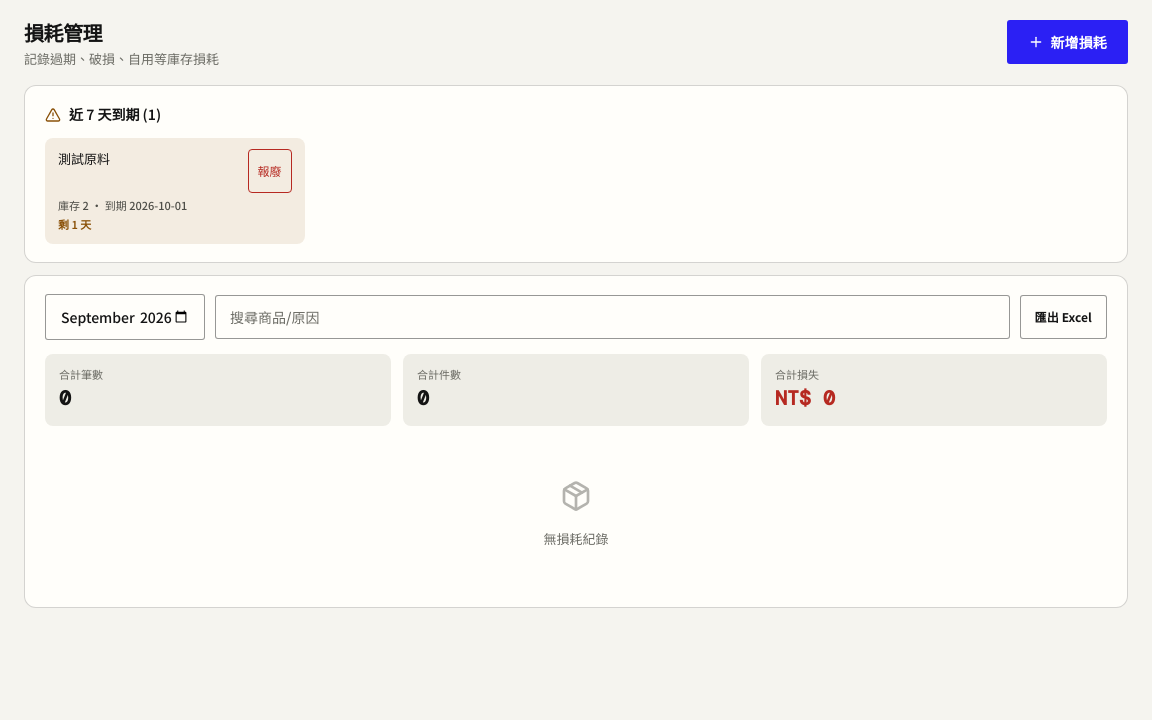
Test: a real waste form preserves fractional ingredient units instead of truncating them
Step 1. Click the button "新增損耗" → (1068, 42), box [1007,20,1128,64]
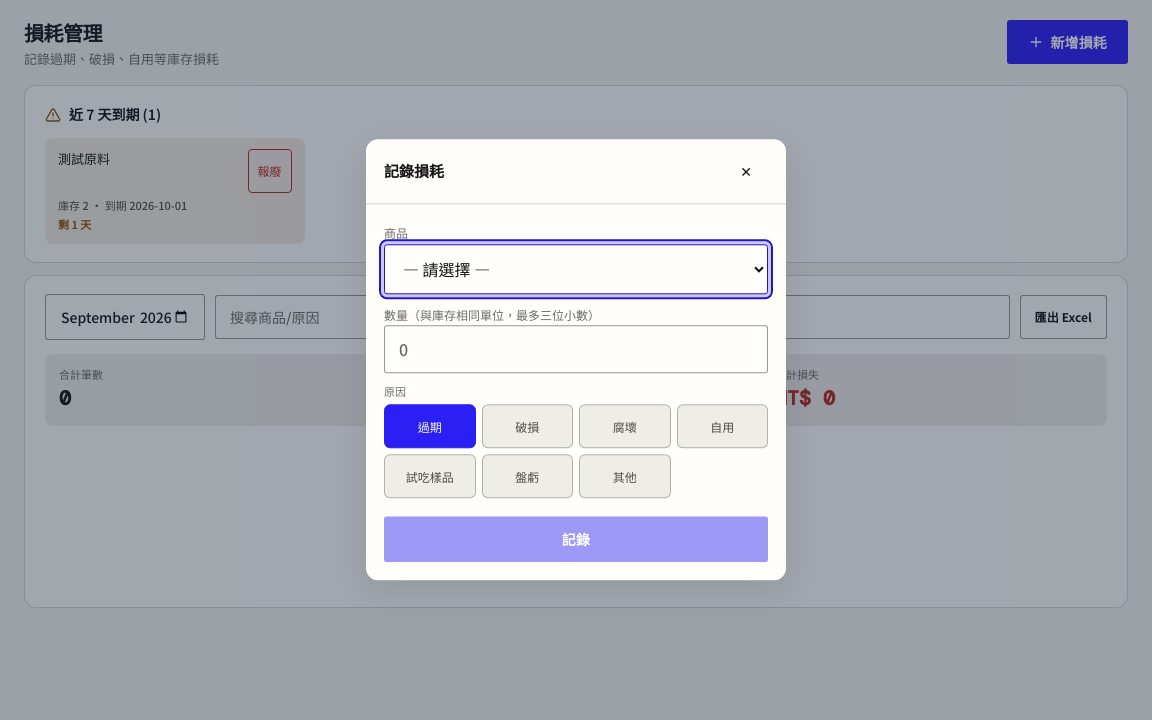
Step 2. Select "測試原料 (庫存 2)" in the dropdown → (576, 269), box [384,244,768,294]
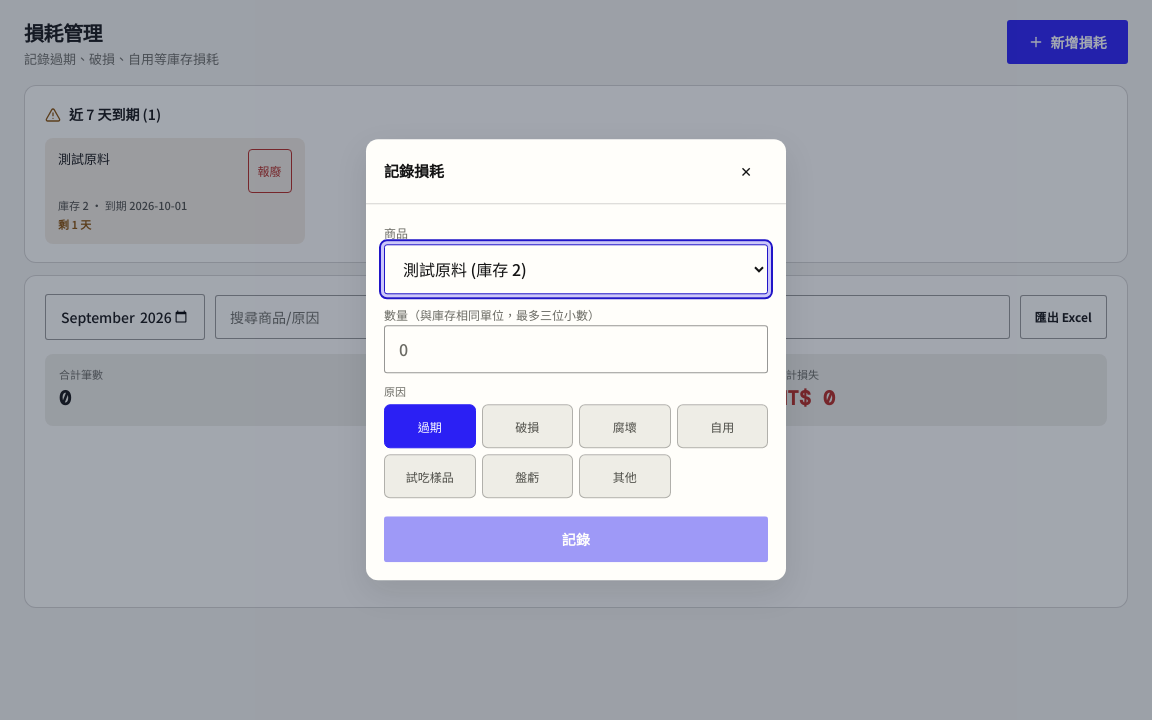
Step 3. Type "0.125" into the number field → (576, 350), box [384,326,768,374]
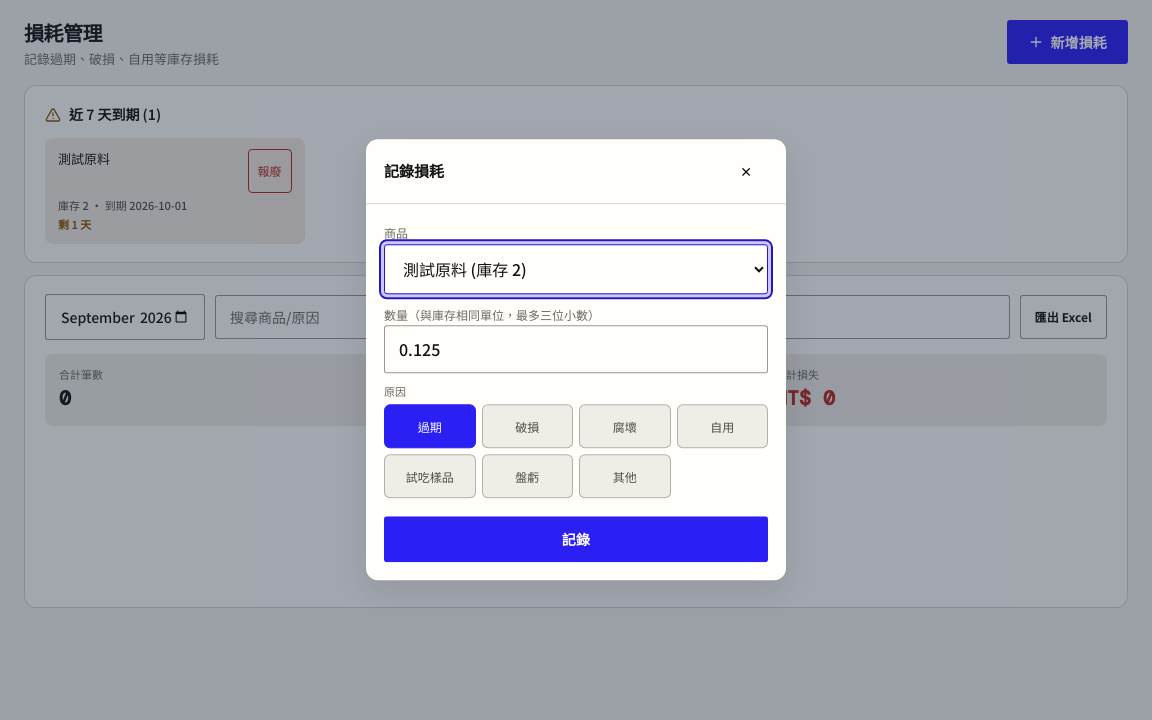
Step 4. Click the button "記錄" → (576, 540), box [384,517,768,563]
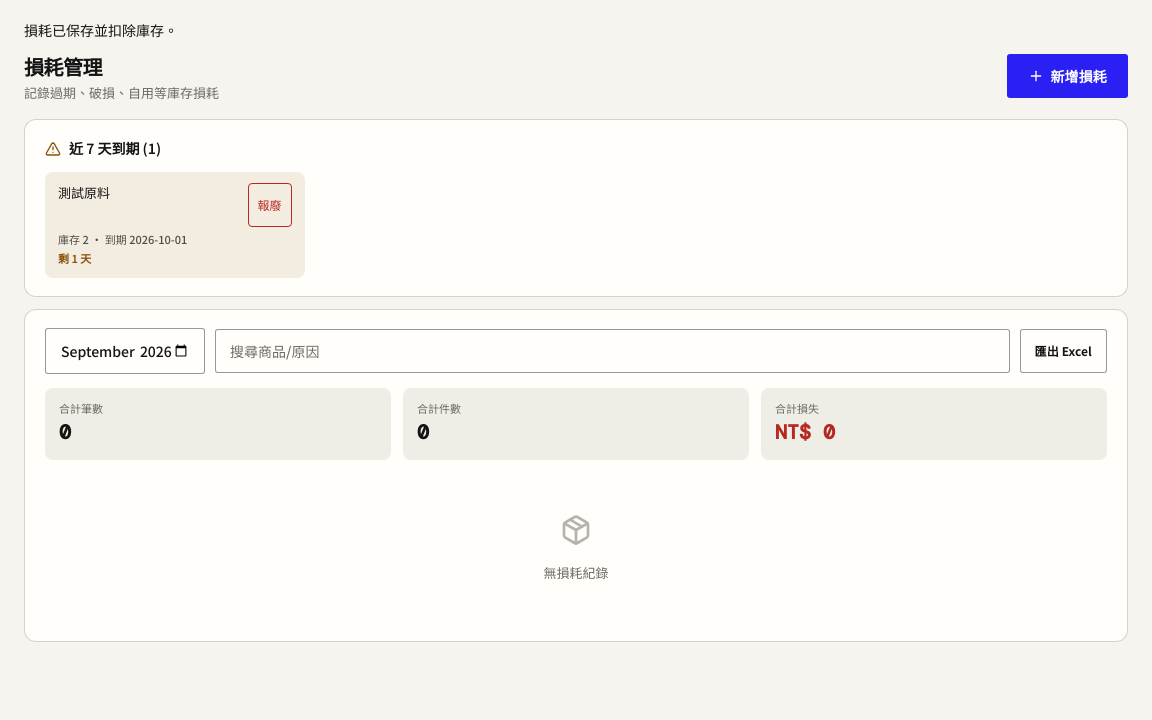
Now the text "記錄損耗" is gone
